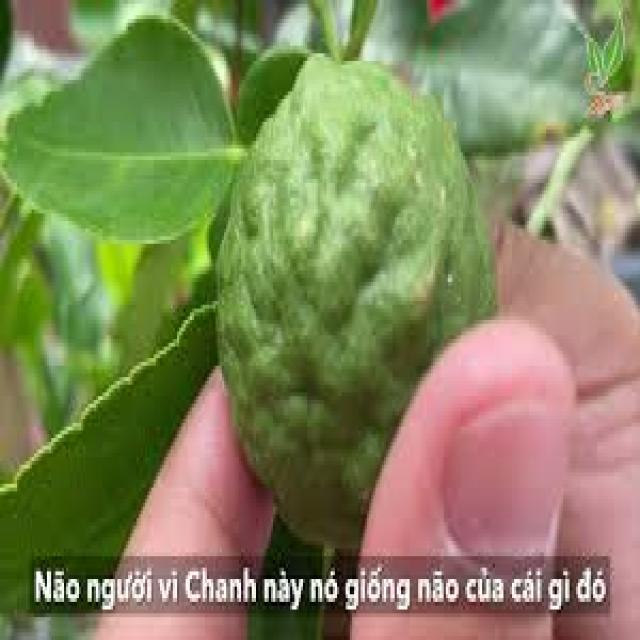Chuc: (213, 50, 500, 552)
